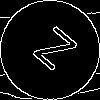Z: (25, 25, 79, 80)
